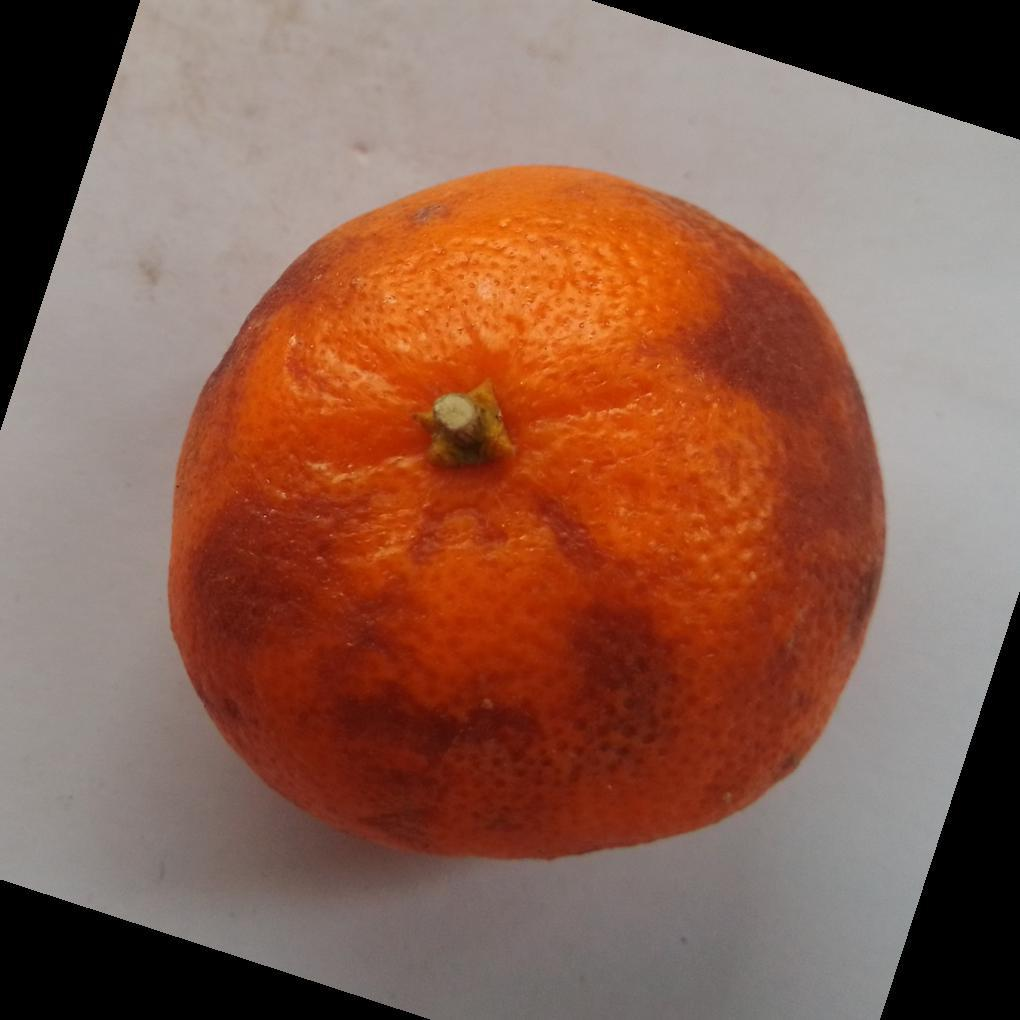FreshOrange: (164, 164, 889, 867)
